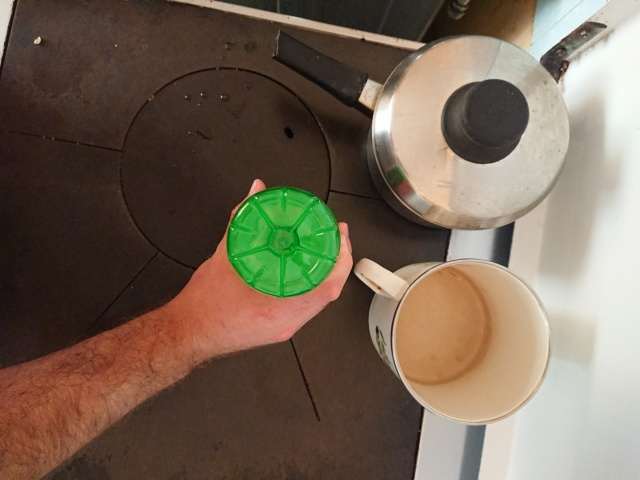Vindi Iso Sport Lemon-Grapefruit 500mL: (222, 183, 344, 302)
